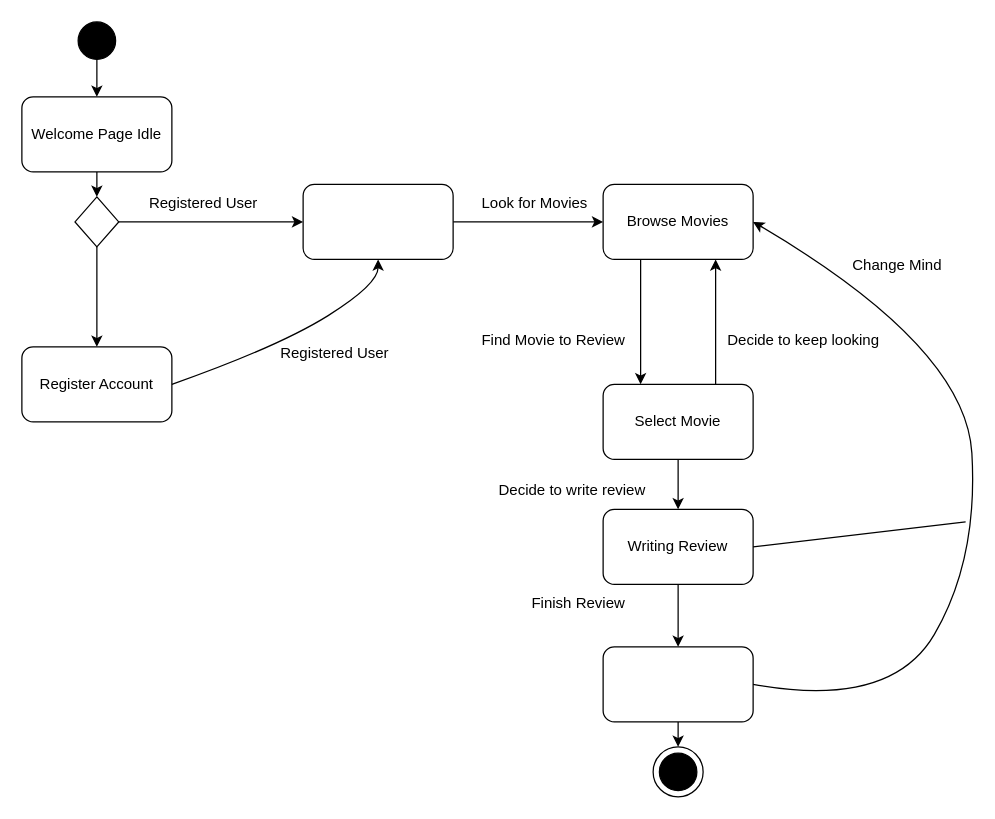
The diagram is 995 pixels wide and 819 high, and some of its shapes have lost their labels. Each missing label, with the centre of its shape:
"Login" belongs at (377,221).
"Posting Review" belongs at (677,684).
